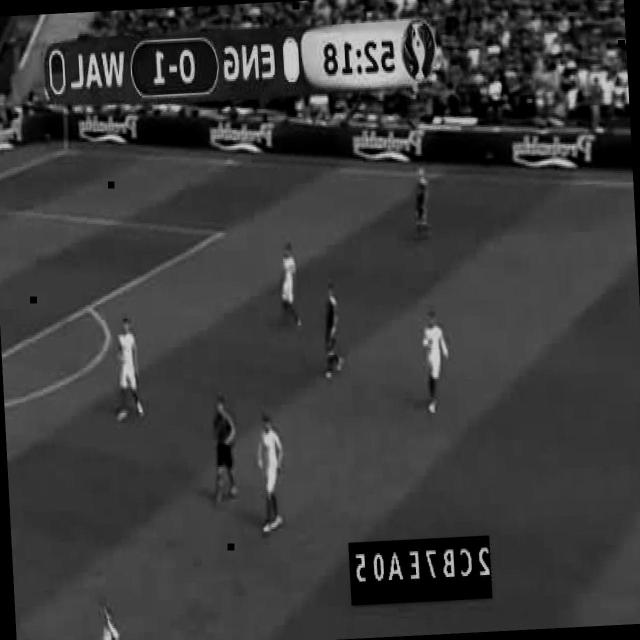player-white: (256, 413, 288, 536), (112, 316, 144, 422), (210, 395, 240, 508), (420, 308, 451, 413), (319, 282, 344, 380), (276, 238, 302, 328), (412, 164, 429, 238), (92, 601, 120, 640)
